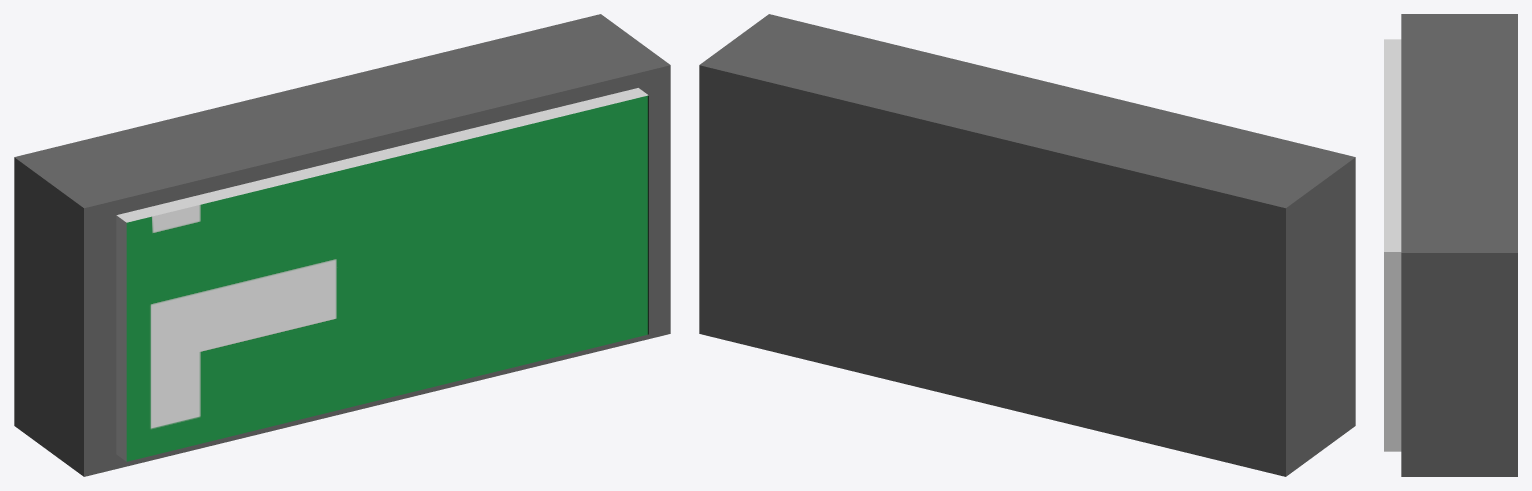
Rendered from exit_sign.fbx.
3 renders of one model, left to right at view 1: azimuth 30°, elevation 25°; view 2: azimuth 150°, elevation 25°; view 3: azimuth 270°, elevation 25°, orthographic. The views are drawn at different scales.
Parts seen in each view (by area): view 1: H_Exit_Sign; view 2: H_Exit_Sign; view 3: H_Exit_Sign.
Part boxes in pixels (box(x1,y1,x2,y2)): H_Exit_Sign: box(14, 14, 670, 476); H_Exit_Sign: box(699, 14, 1355, 476); H_Exit_Sign: box(1384, 14, 1517, 476).
Size of the model in its own units: 260 by 61.65 by 114.
